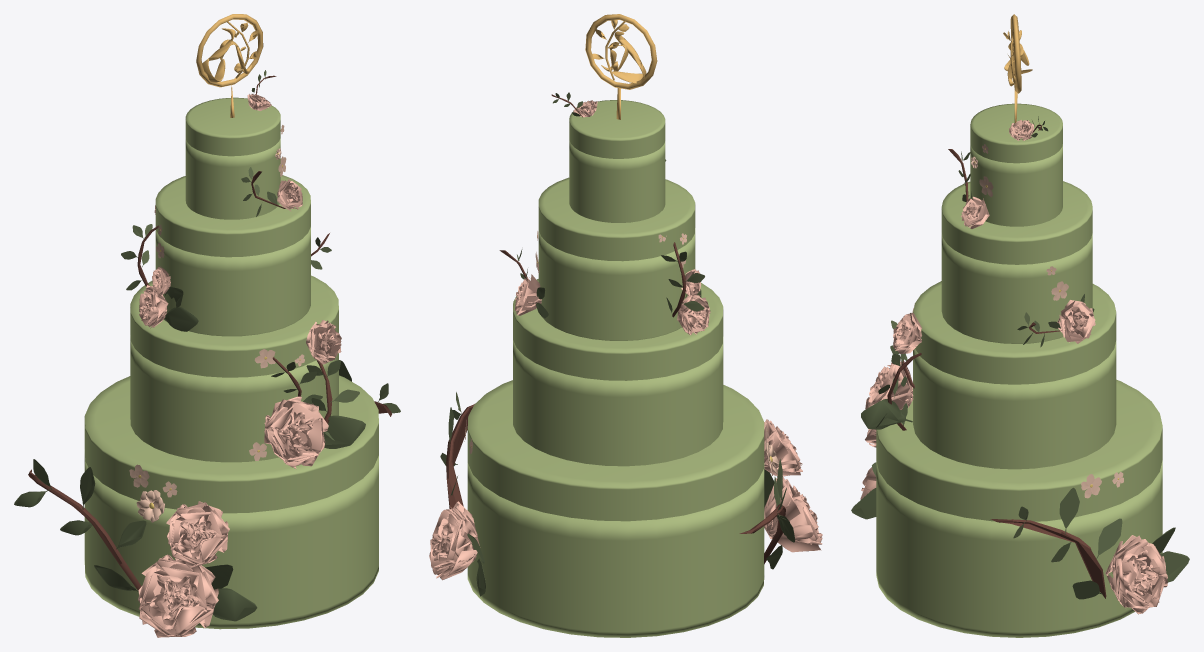
Rendered from 4-tier-pistage-roses-ring.glb.
The picture shows the model from 3 angles, left to right: view 1: azimuth 30°, elevation 25°; view 2: azimuth 150°, elevation 25°; view 3: azimuth 270°, elevation 25°; orthographic projection.
Parts seen in each view (by area): view 1: 3.001, 3, 2, 1, grid.013, Plane.024, grid.016, grid.012, Cylinder.006, grid.015, Plane.009, Plane.022 (+7 smaller); view 2: 3.001, 3, 2, 1, Cylinder.006, grid.020, grid.013, Plane.008, Plane.024, grid.012, grid.017, Plane.023 (+1 smaller); view 3: 3.001, 3, 2, 1, grid.020, Plane.008, grid.016, grid.019, Cylinder.006, Plane.009, grid.015, grid.021 (+3 smaller).
Part boxes in pixels (left/top/right/bottom): 3.001: left=84, top=375, right=378, bottom=629; 3: left=130, top=275, right=338, bottom=462; 2: left=155, top=175, right=310, bottom=336; 1: left=185, top=97, right=280, bottom=219; grid.013: left=138, top=554, right=218, bottom=637; Plane.024: left=14, top=459, right=146, bottom=591; grid.016: left=264, top=396, right=328, bottom=468; grid.012: left=166, top=501, right=229, bottom=568; Cylinder.006: left=196, top=14, right=263, bottom=117; grid.015: left=306, top=320, right=341, bottom=364; Plane.009: left=323, top=415, right=365, bottom=448; Plane.022: left=212, top=588, right=257, bottom=621; 3.001: left=467, top=380, right=764, bottom=637; 3: left=513, top=279, right=723, bottom=466; 2: left=538, top=177, right=695, bottom=340; 1: left=569, top=100, right=665, bottom=222; Cylinder.006: left=585, top=14, right=657, bottom=119; grid.020: left=429, top=501, right=480, bottom=580; grid.013: left=764, top=477, right=822, bottom=552; Plane.008: left=440, top=392, right=475, bottom=509; Plane.024: left=739, top=459, right=795, bottom=569; grid.012: left=764, top=419, right=802, bottom=476; grid.017: left=677, top=295, right=710, bottom=335; Plane.023: left=661, top=242, right=704, bottom=317; 3.001: left=876, top=379, right=1162, bottom=637; 3: left=913, top=281, right=1116, bottom=469; 2: left=941, top=181, right=1092, bottom=343; 1: left=970, top=103, right=1062, bottom=226; grid.020: left=1105, top=535, right=1167, bottom=614; Plane.008: left=990, top=487, right=1122, bottom=599; grid.016: left=865, top=358, right=913, bottom=409; grid.019: left=1057, top=300, right=1095, bottom=343; Cylinder.006: left=1003, top=14, right=1032, bottom=123; Plane.009: left=861, top=399, right=912, bottom=429; grid.015: left=893, top=313, right=921, bottom=353; grid.021: left=961, top=196, right=989, bottom=228.
Size of the model in its own units: 6.25 by 9.13 by 5.05.
